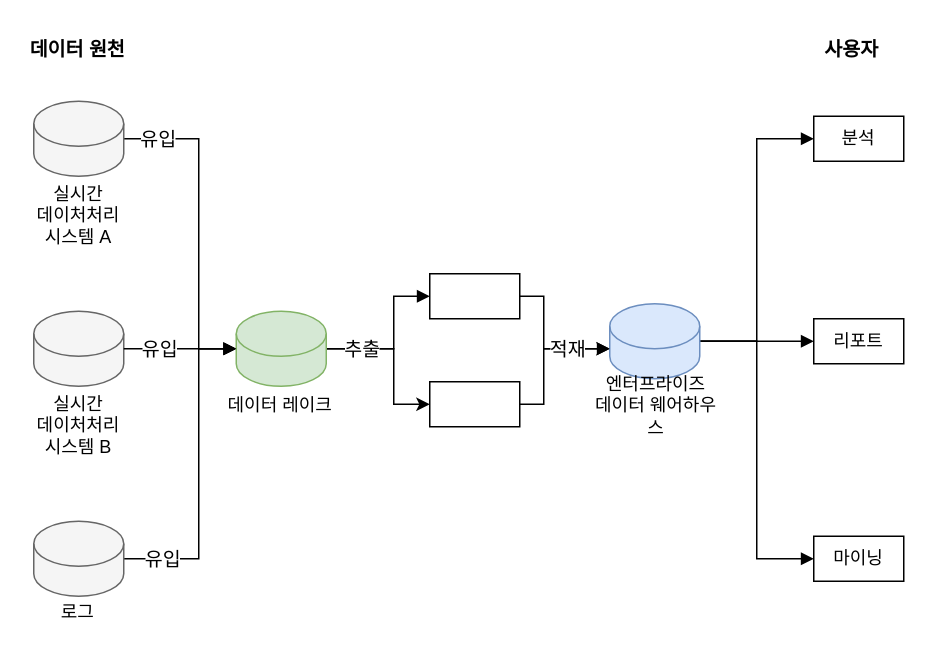
The diagram is 932 pixels wide and 651 high, and some of its shapes have lost their labels. Here are the shapes that lost their labels. From the top down, the centre of each, then its label:
(x=474, y=295): 변환 V1
(x=474, y=403): 변환 V2
